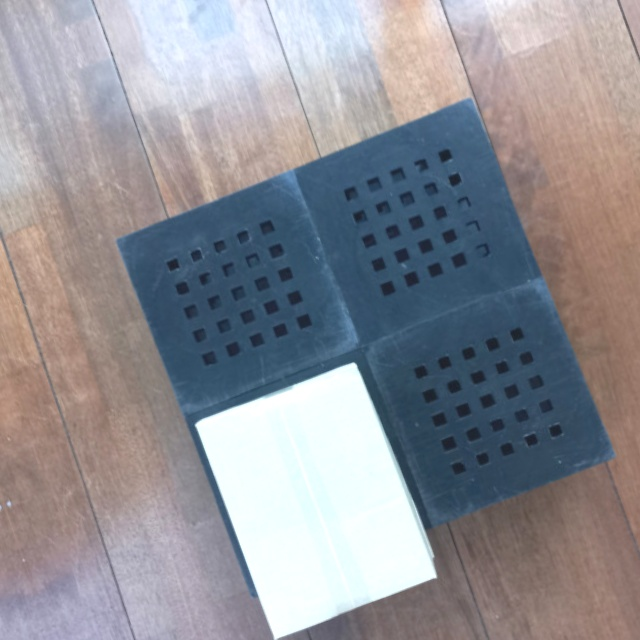box: (193, 357, 439, 640)
pallet: (106, 88, 624, 561)
